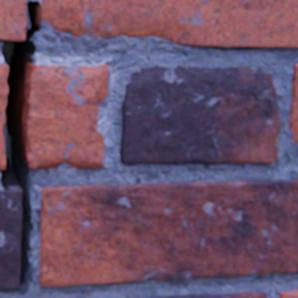brick: (39, 179, 297, 286), (119, 65, 278, 163), (41, 0, 297, 48), (0, 188, 21, 289), (0, 0, 25, 40), (155, 290, 265, 297), (288, 64, 297, 144), (279, 289, 297, 297)
broken_brick: (26, 65, 107, 168), (0, 64, 8, 168)
crack: (0, 1, 43, 296)
